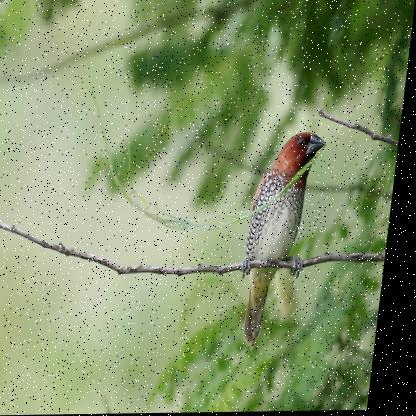Burung: (242, 133, 331, 349)
